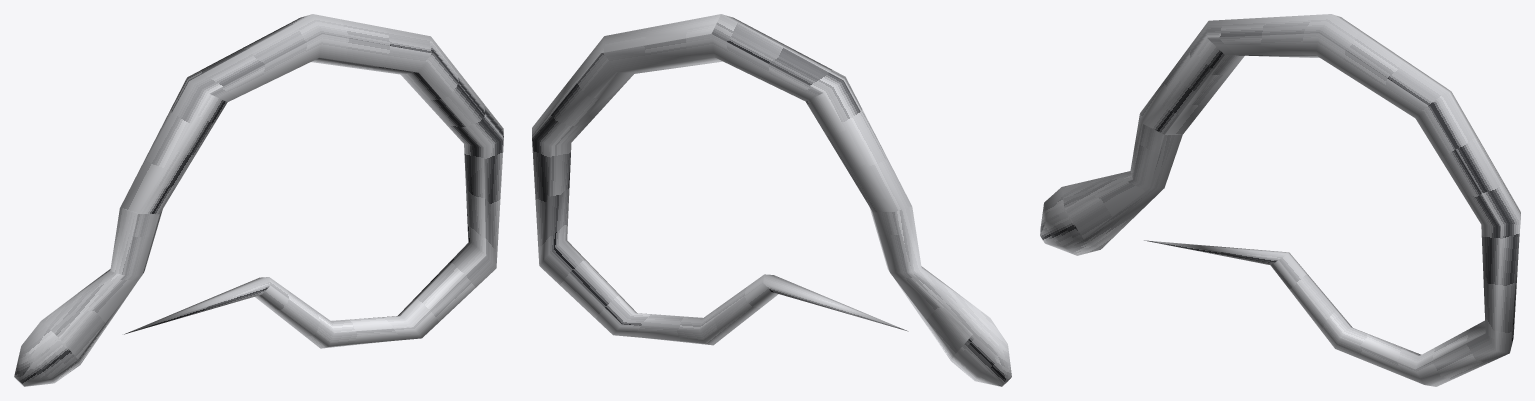
File: snake_000004.obj
3 views of the same model, side by side, from view 1: azimuth 30°, elevation 25°; view 2: azimuth 150°, elevation 25°; view 3: azimuth 330°, elevation 25° (orthographic).
Parts seen in each view (by area): view 1: Cylinder; view 2: Cylinder; view 3: Cylinder.
Part boxes in pixels (x1=…): Cylinder: x1=14, y1=14, x2=503, y2=386; Cylinder: x1=532, y1=14, x2=1011, y2=386; Cylinder: x1=1040, y1=14, x2=1520, y2=386.
Bounding box in the file's own units: 4.64 × 3.19 × 0.3671.
